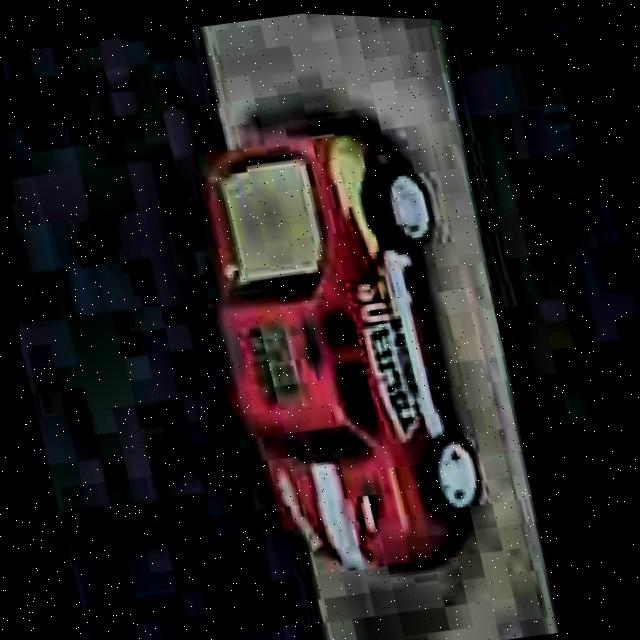car: (164, 91, 519, 604)
